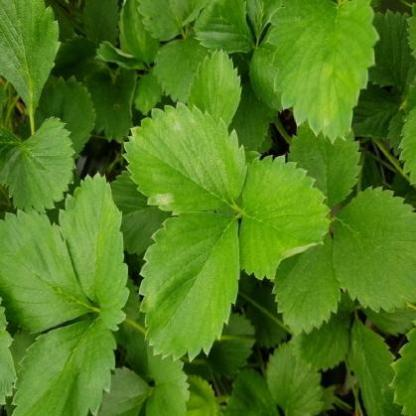Strawberry_Powdery_Mildew_Leaf: (122, 101, 249, 215)
